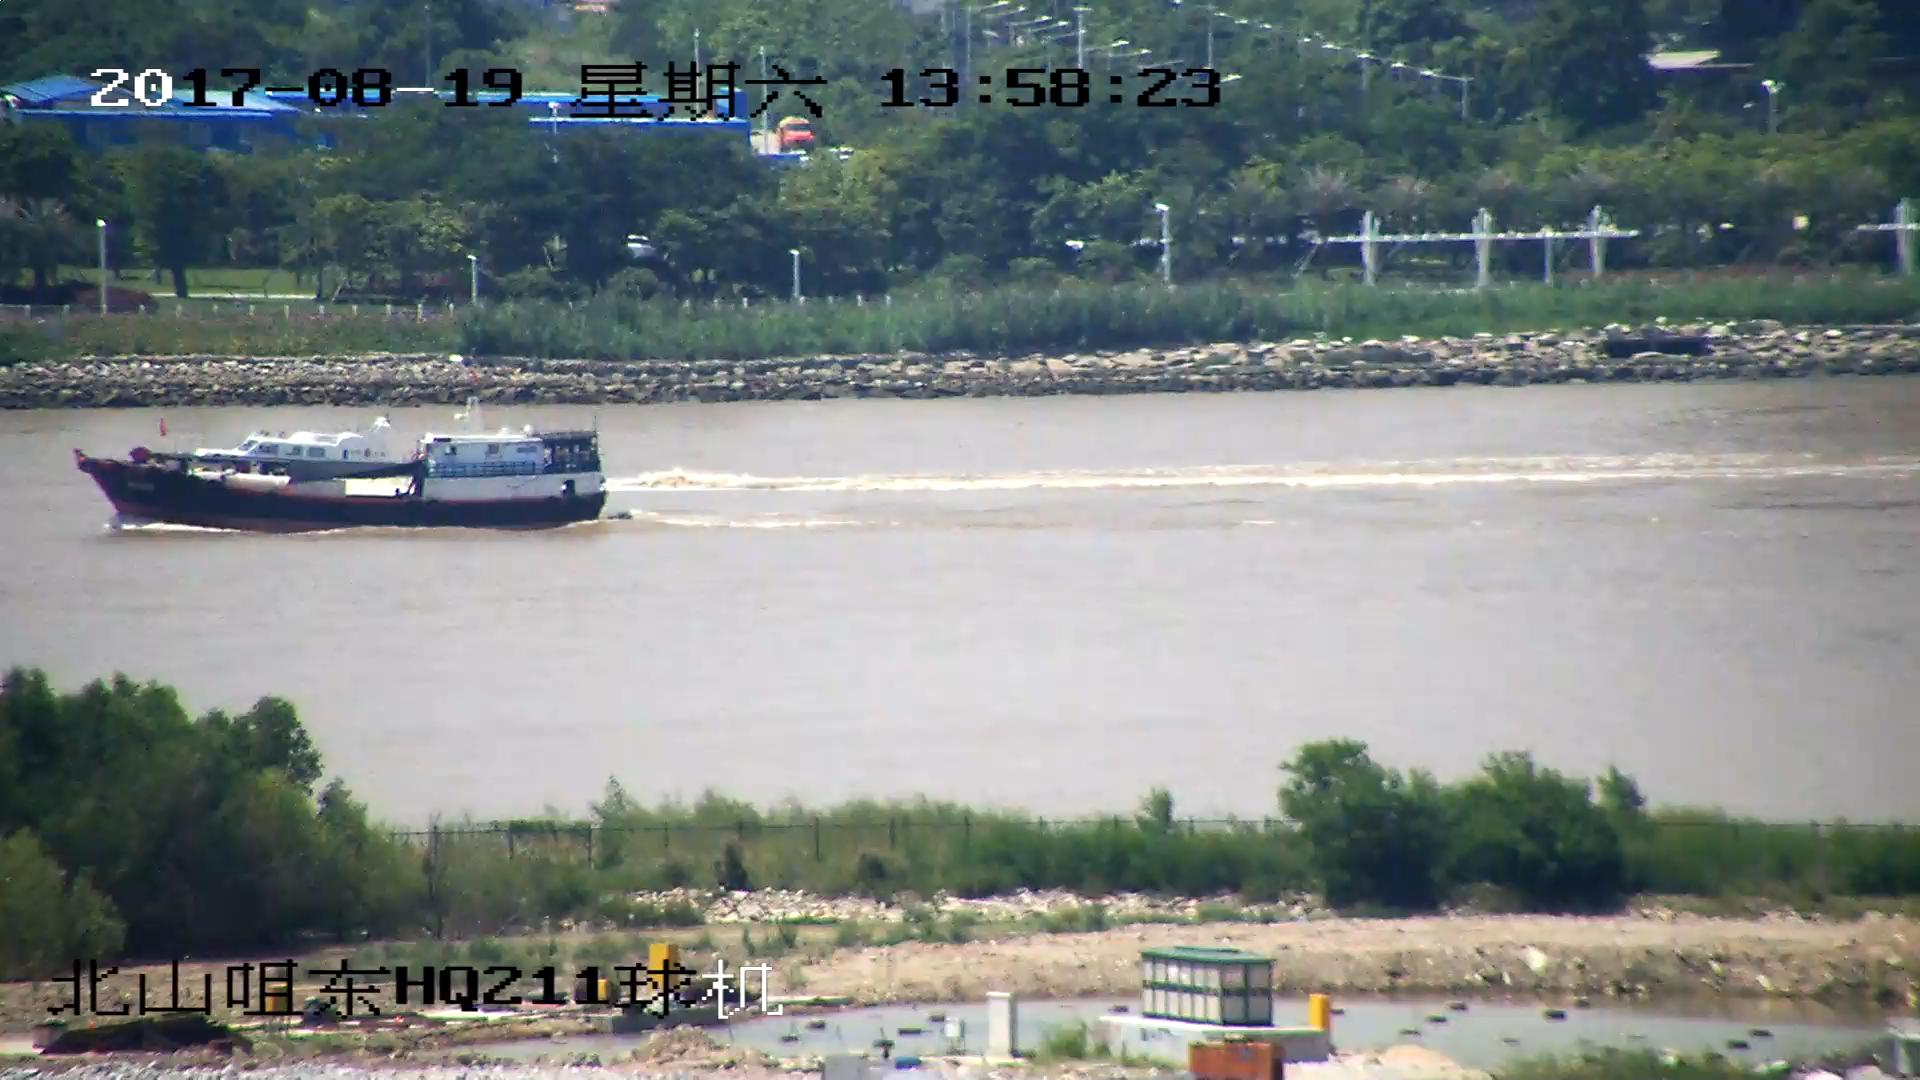fishing boat: (74, 403, 608, 530)
